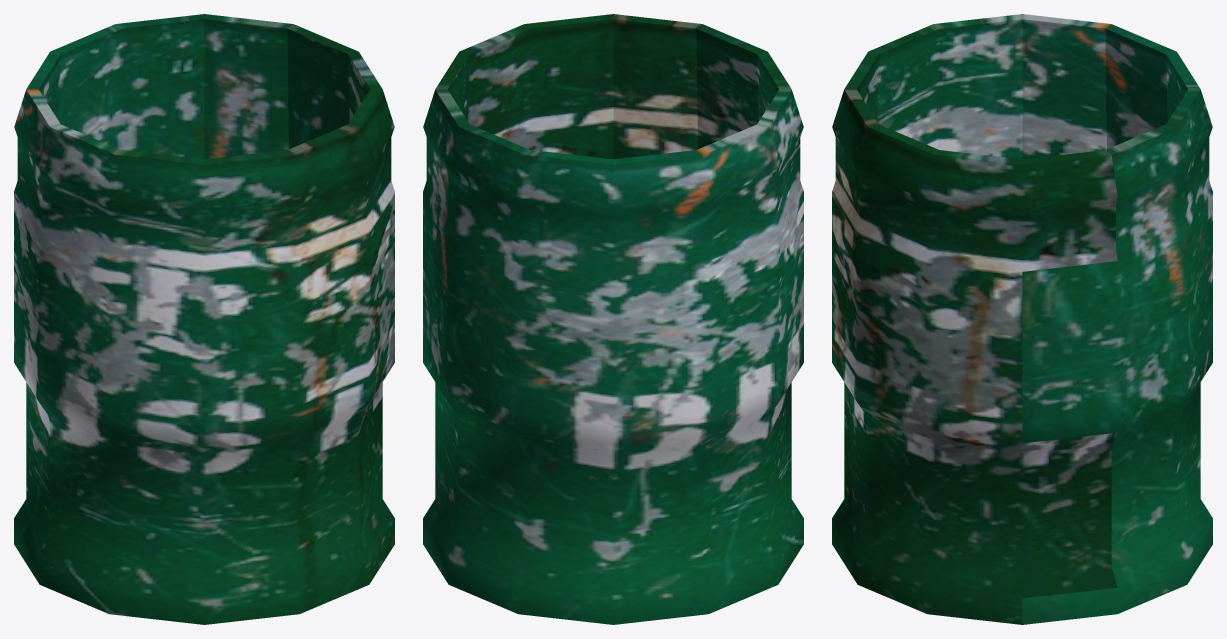
Rendered from dustbin A.FBX.
3 views of the same model, side by side, from view 1: azimuth 30°, elevation 25°; view 2: azimuth 150°, elevation 25°; view 3: azimuth 270°, elevation 25° (orthographic).
Parts seen in each view (by area): view 1: Cylinder001; view 2: Cylinder001; view 3: Cylinder001.
Boxes of the visible parts, x1=… form: Cylinder001: x1=14, y1=14, x2=394, y2=624; Cylinder001: x1=423, y1=14, x2=803, y2=624; Cylinder001: x1=832, y1=14, x2=1212, y2=624.
Bounding box in the file's own units: 4 × 5.28 × 4.
